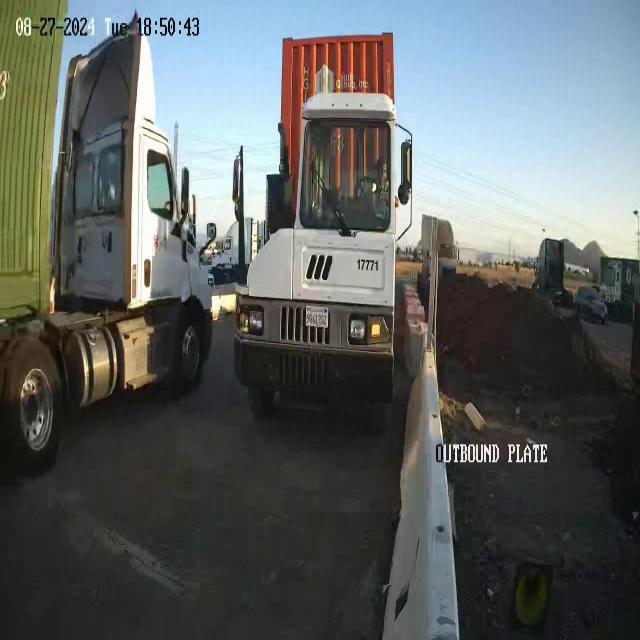TRUCK_IN: (0, 4, 218, 466)
TRUCK_OUT: (232, 31, 414, 419)
